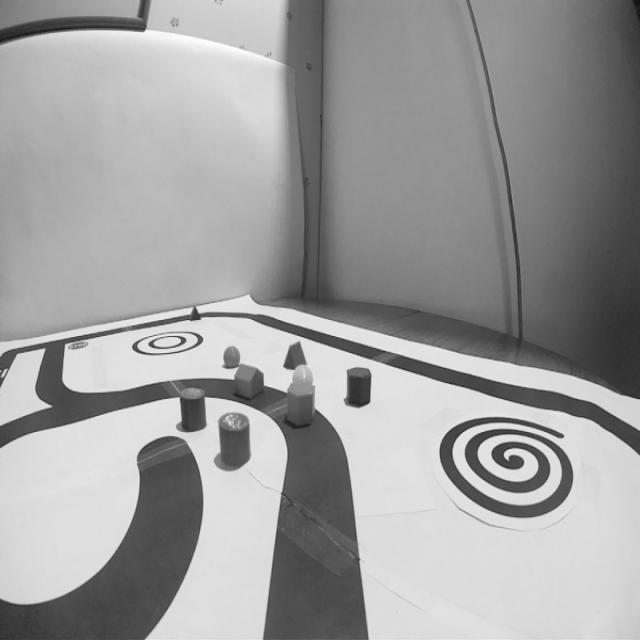ball: (222, 346, 241, 370)
cockade: (133, 330, 201, 356)
cylinder: (217, 411, 251, 467), (179, 387, 206, 431), (346, 367, 372, 406)
hexagon: (286, 381, 315, 428)
home: (234, 364, 263, 400)
lineStraight: (254, 485, 379, 640)
nest: (437, 415, 577, 519)
triangle: (283, 340, 307, 370), (189, 306, 201, 321)
